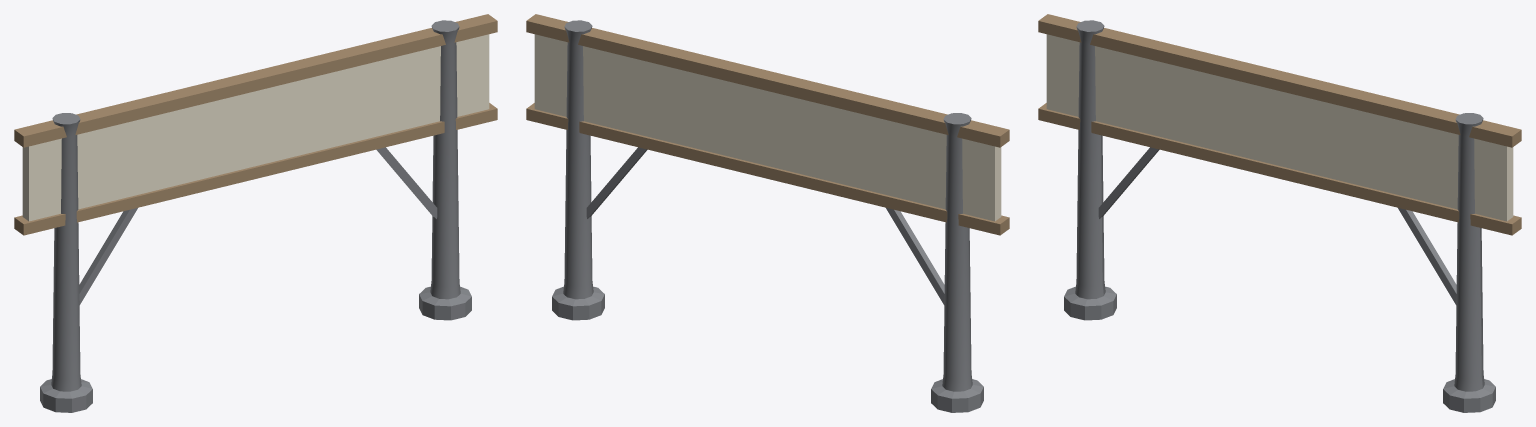
File: steam-era-railway-and-rolling-stock-station-nameboard-28b3e5b3.glb
3 views of the same model, side by side, from view 1: azimuth 30°, elevation 25°; view 2: azimuth 150°, elevation 25°; view 3: azimuth 330°, elevation 25° (orthographic).
Visible parts, largest first — view 1: station-nameboard; view 2: station-nameboard; view 3: station-nameboard.
Part boxes in pixels (left/top/right/bottom): station-nameboard: left=14, top=14, right=497, bottom=412; station-nameboard: left=526, top=14, right=1009, bottom=412; station-nameboard: left=1038, top=14, right=1521, bottom=412.
Bounding box in the file's own units: 3.5 × 2 × 0.3235.
